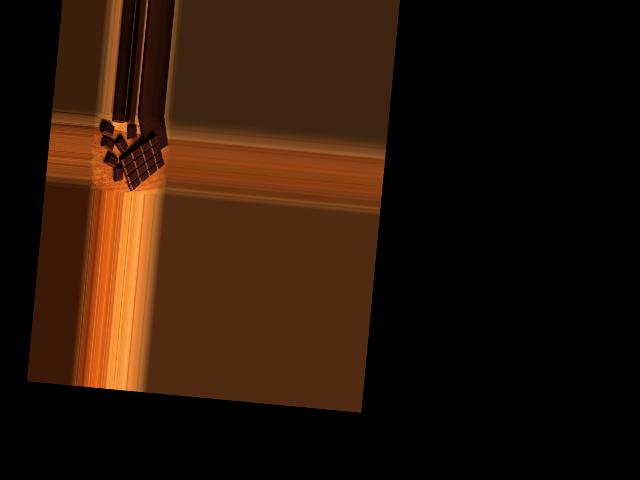chocolate: (114, 130, 167, 192)
